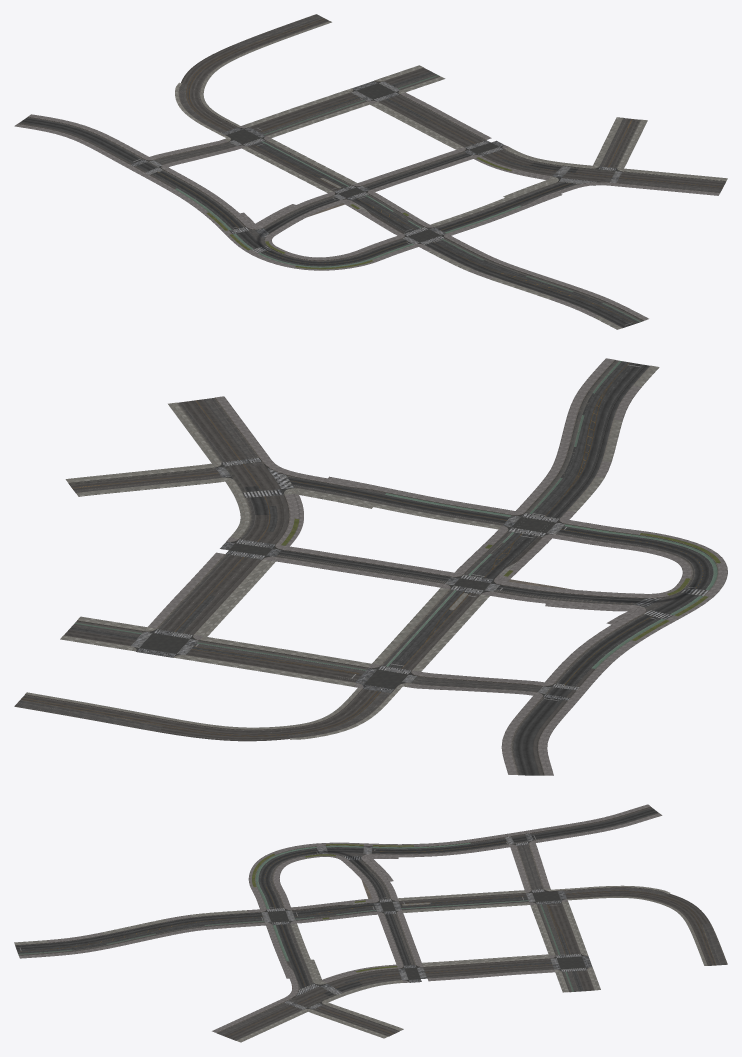
The picture shows the model from 3 angles, top to bottom: view 1: azimuth 30°, elevation 25°; view 2: azimuth 150°, elevation 25°; view 3: azimuth 270°, elevation 25°; orthographic projection. The views are drawn at different scales.
Parts seen in each view (by area): view 1: Road.002, Road.008, Road.009, Road.006, Road.005, Road.010, Road.007, Road.011, Road.001, Road.003; view 2: Road.002, Road.008, Road.009, Road.005, Road.006, Road.010, Road.001, Road.011, Road.007, Road.003; view 3: Road.002, Road.008, Road.009, Road.006, Road.005, Road.010, Road.007, Road.001, Road.011, Road.003.
Part boxes in pixels (left/top/right/bottom): Road.002: left=14, top=21, right=719, bottom=327; Road.008: left=20, top=71, right=639, bottom=327; Road.009: left=18, top=18, right=725, bottom=233; Road.006: left=27, top=14, right=726, bottom=321; Road.005: left=175, top=21, right=727, bottom=329; Road.010: left=131, top=81, right=621, bottom=253; Road.007: left=175, top=75, right=640, bottom=322; Road.011: left=146, top=81, right=619, bottom=243; Road.001: left=133, top=18, right=722, bottom=325; Road.003: left=206, top=157, right=511, bottom=269; Road.002: left=25, top=358, right=727, bottom=775; Road.008: left=69, top=361, right=713, bottom=775; Road.009: left=21, top=399, right=594, bottom=775; Road.005: left=25, top=365, right=659, bottom=739; Road.006: left=14, top=360, right=694, bottom=775; Road.010: left=131, top=457, right=708, bottom=700; Road.001: left=17, top=361, right=713, bottom=740; Road.011: left=134, top=461, right=562, bottom=695; Road.007: left=74, top=361, right=717, bottom=670; Road.003: left=281, top=518, right=720, bottom=640; Road.002: left=15, top=804, right=707, bottom=1033; Road.008: left=15, top=808, right=658, bottom=996; Road.009: left=223, top=807, right=715, bottom=1039; Road.006: left=18, top=813, right=727, bottom=1040; Road.005: left=14, top=885, right=707, bottom=1042; Road.010: left=261, top=833, right=592, bottom=1009; Road.007: left=18, top=842, right=573, bottom=991; Road.001: left=16, top=835, right=722, bottom=1036; Road.011: left=262, top=841, right=589, bottom=1008; Road.003: left=252, top=844, right=413, bottom=972.
Bounding box in the file's own units: 444 × 17.12 × 594.
Materials: 11 (11 with a texture image).
